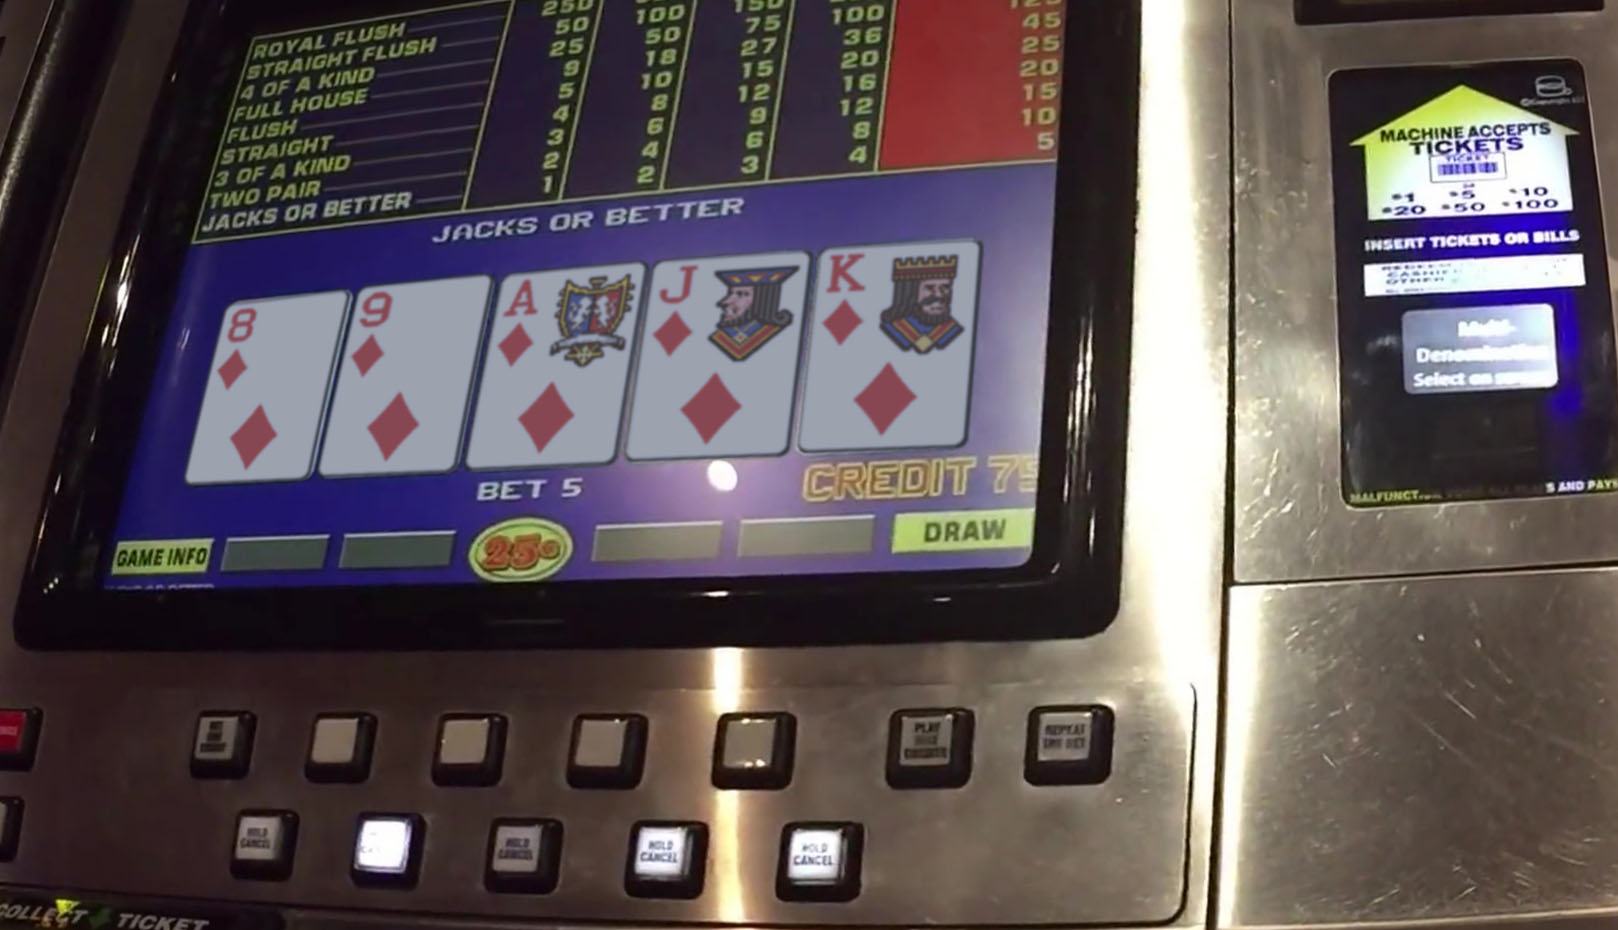D8: (214, 296, 334, 477)
D9: (344, 280, 477, 471)
DA: (485, 268, 635, 464)
DJ: (645, 256, 792, 460)
DK: (821, 248, 965, 444)
